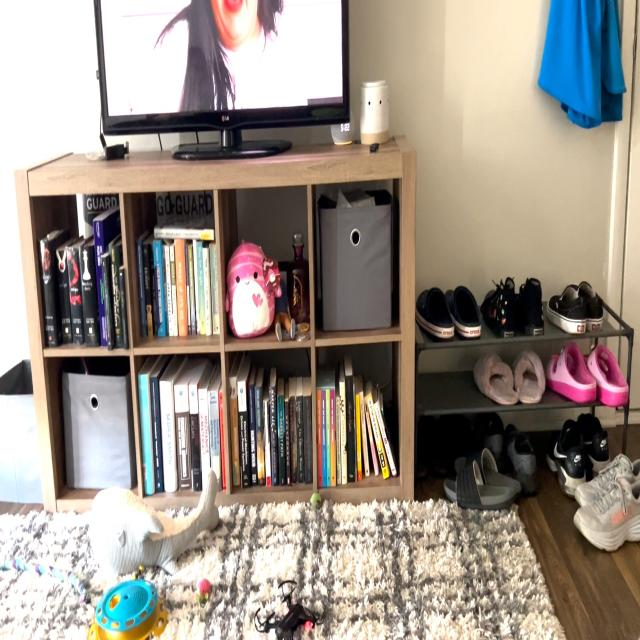drone: (240, 569, 333, 640)
